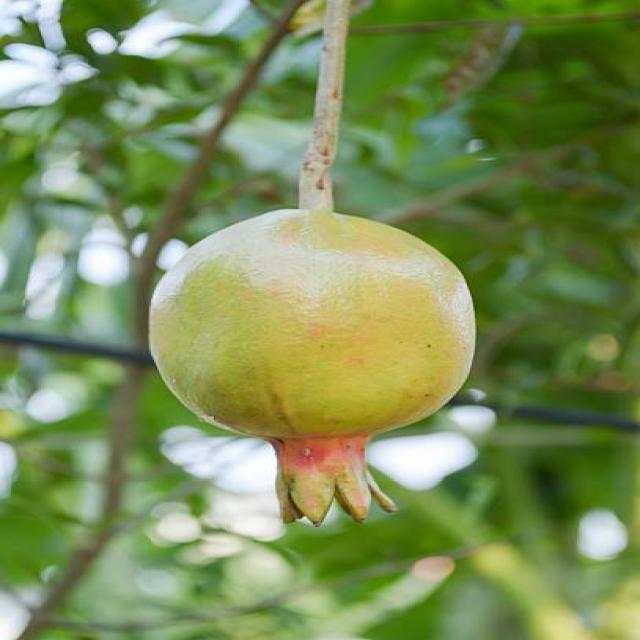Unripe: (148, 207, 474, 524)
